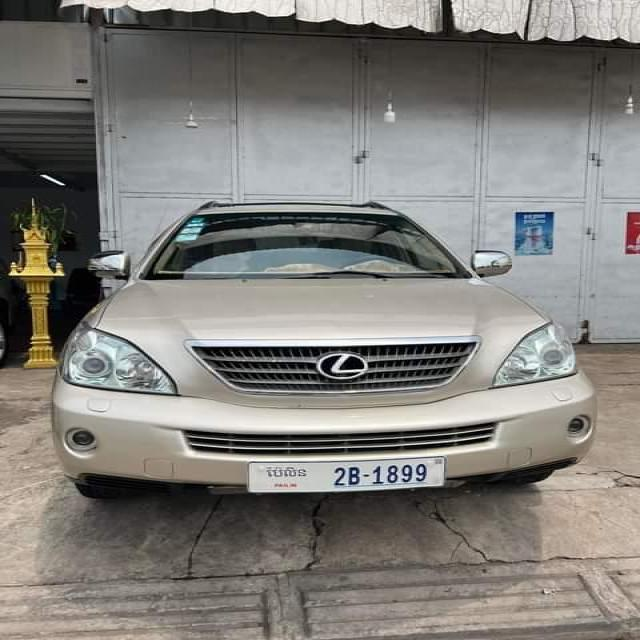Pailin: (264, 465, 306, 478)
